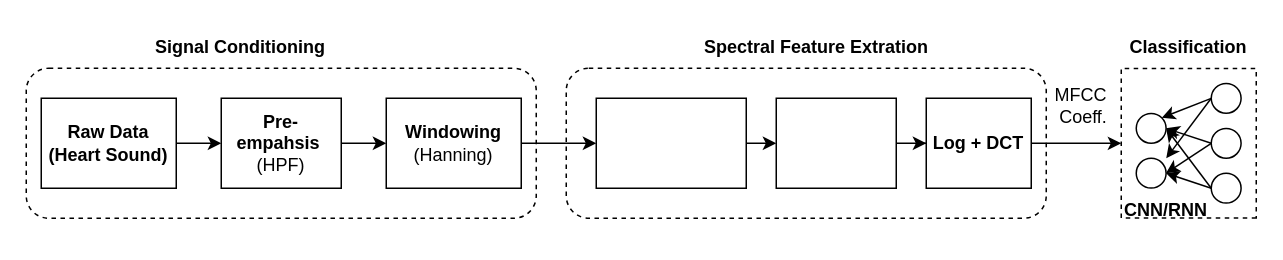
The diagram is 1283 pixels wide and 260 high, and some of its shapes have lost their labels. The centre of each missing label's shape, as x and y in pixels:
Fast-Fourier Transform (FFT): [670,142]
Mel Filtering: [835,142]
